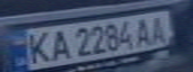2: (87, 22, 109, 55), (72, 25, 93, 57)
4: (115, 18, 136, 50)
8: (103, 20, 124, 52)
A: (45, 27, 72, 61), (133, 16, 157, 46)
I: (145, 12, 172, 43)
K: (21, 28, 54, 65)
